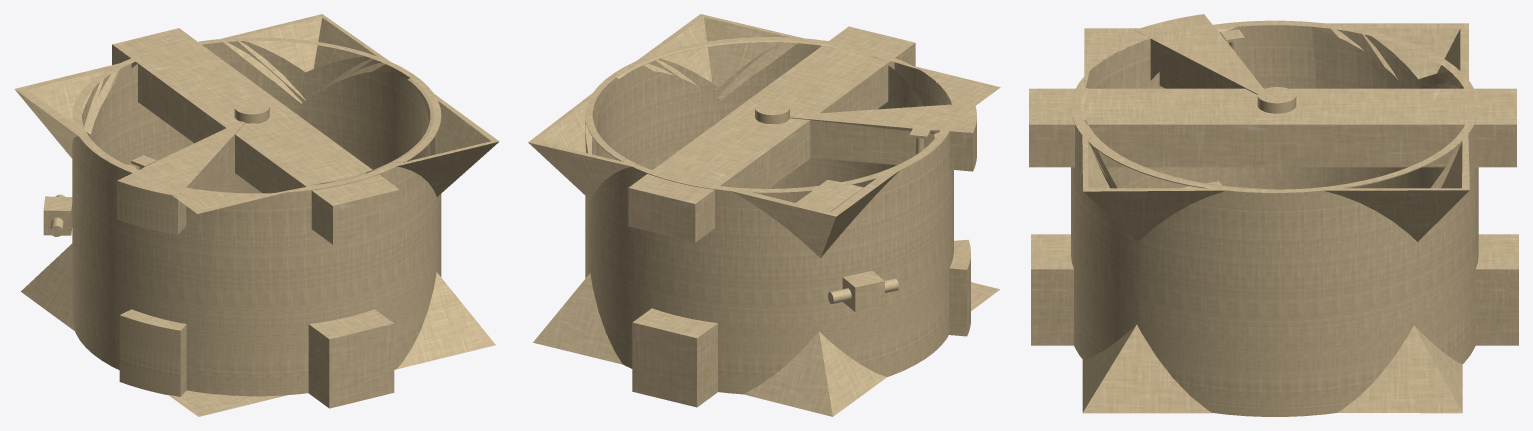
Rendered from kyq.dae.
The picture shows the model from 3 angles, left to right: view 1: azimuth 30°, elevation 25°; view 2: azimuth 150°, elevation 25°; view 3: azimuth 270°, elevation 25°; orthographic projection. The views are drawn at different scales.
Visible parts, largest first — view 1: SketchUp (×3); view 2: SketchUp (×3); view 3: SketchUp (×2).
Boxes of the visible parts, bbox=[...] form: SketchUp (×3): bbox=[14, 14, 499, 416]; SketchUp (×3): bbox=[528, 14, 1000, 416]; SketchUp (×2): bbox=[1029, 14, 1518, 416].
Size of the model in its own units: 10.48 by 12.14 by 6.41.
Materials: 1 (1 with a texture image).
